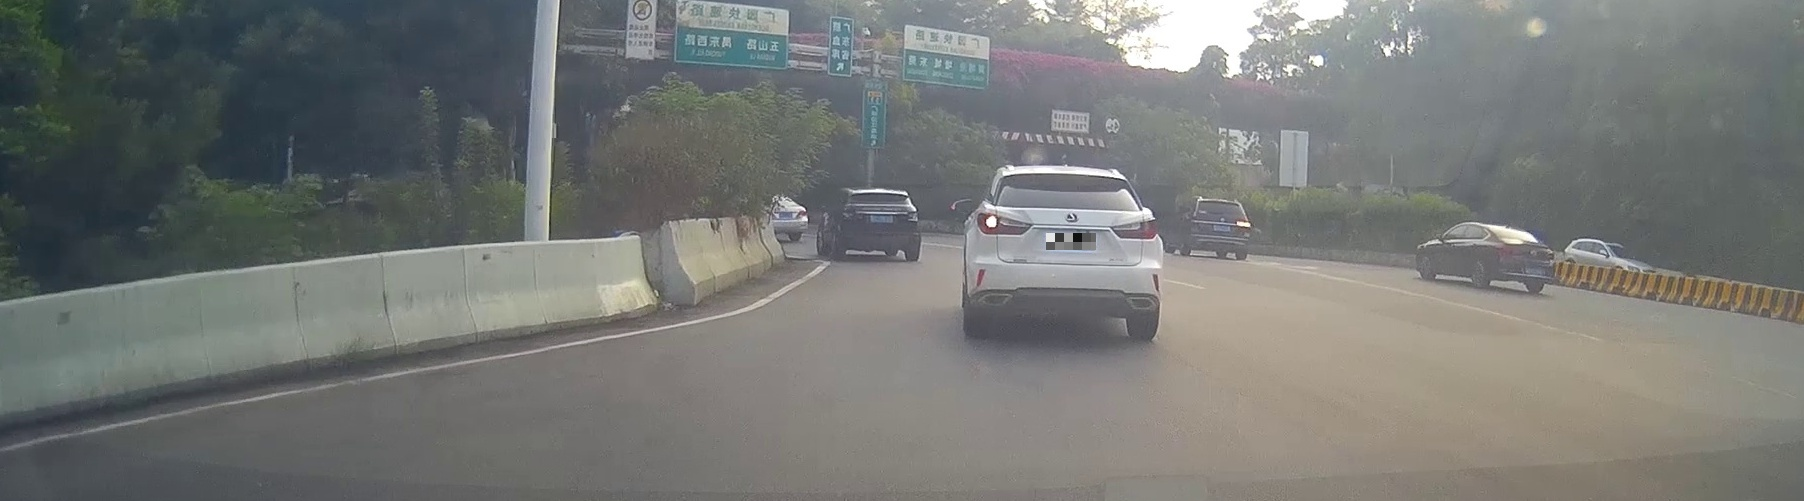L_light: (977, 212, 1032, 235), (1500, 243, 1518, 252), (843, 208, 859, 218), (1191, 218, 1203, 225)
R_light: (1109, 217, 1159, 240), (905, 210, 918, 221), (1236, 220, 1251, 228), (1544, 246, 1554, 255)
T_light: (1060, 170, 1078, 177), (1505, 223, 1516, 228), (876, 191, 887, 195), (1216, 199, 1226, 203)
day-no: (838, 188, 922, 261), (1486, 222, 1554, 291)
day-right: (971, 165, 1159, 339), (1188, 197, 1252, 261)
plate_1: (1046, 233, 1096, 250)
